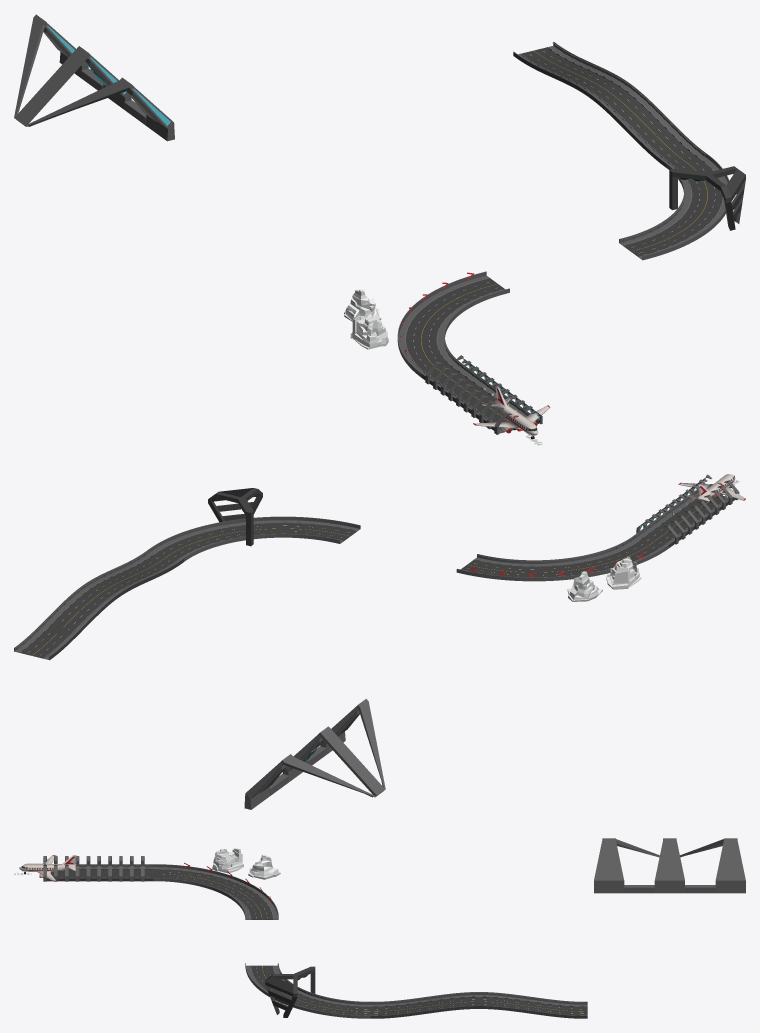
The model's file is Roads.fbx.
The picture shows the model from 3 angles, top to bottom: view 1: azimuth 30°, elevation 25°; view 2: azimuth 150°, elevation 25°; view 3: azimuth 270°, elevation 25°; orthographic projection. The views are drawn at different scales.
Visible parts, largest first — view 1: Design3, RoadRightTurn, RoadLeftTurn, RoadEl, RoadDwn, Design2, RoadStraight, Design1, Plane.002, Rock.001, Rock; view 2: Design3, RoadLeftTurn, RoadRightTurn, RoadDwn, RoadEl, RoadStraight, Design2, Design1, Rock.001, Plane.002, Rock; view 3: Design3, RoadRightTurn, RoadLeftTurn, RoadDwn, RoadEl, RoadStraight, Design2, Design1, Rock.001, Plane.002, Rock.
Boxes of the visible parts, <box> form: Design3: <box>14,14,174,141</box>; RoadRightTurn: <box>397,271,509,377</box>; RoadLeftTurn: <box>619,154,729,260</box>; RoadEl: <box>590,84,706,167</box>; RoadDwn: <box>513,42,630,97</box>; Design2: <box>669,166,745,230</box>; RoadStraight: <box>421,363,538,433</box>; Design1: <box>425,355,542,434</box>; Plane.002: <box>473,385,550,439</box>; Rock.001: <box>350,309,388,349</box>; Rock: <box>344,289,381,321</box>; Design3: <box>244,698,385,809</box>; RoadLeftTurn: <box>149,516,360,561</box>; RoadRightTurn: <box>456,536,668,581</box>; RoadDwn: <box>14,586,116,660</box>; RoadEl: <box>81,549,184,598</box>; RoadStraight: <box>633,489,735,548</box>; Design2: <box>208,488,262,546</box>; Design1: <box>636,474,739,544</box>; Rock.001: <box>606,556,641,589</box>; Plane.002: <box>678,474,745,501</box>; Rock: <box>567,571,602,601</box>; Design3: <box>594,838,745,893</box>; RoadRightTurn: <box>153,864,278,919</box>; RoadLeftTurn: <box>245,963,370,1018</box>; RoadDwn: <box>479,992,587,1018</box>; RoadEl: <box>370,992,478,1018</box>; RoadStraight: <box>47,864,153,881</box>; Design2: <box>265,966,315,1017</box>; Design1: <box>43,856,144,881</box>; Rock.001: <box>212,848,243,873</box>; Plane.002: <box>19,855,76,881</box>; Rock: <box>248,854,280,879</box>.
Size of the model in its own units: 35874 by 4888 by 67448.
